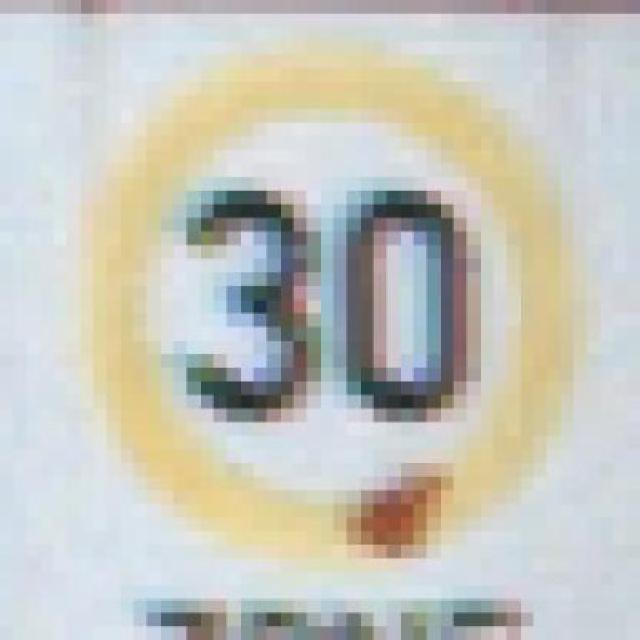Speed Limit 30 KMPh: (66, 54, 600, 572)
